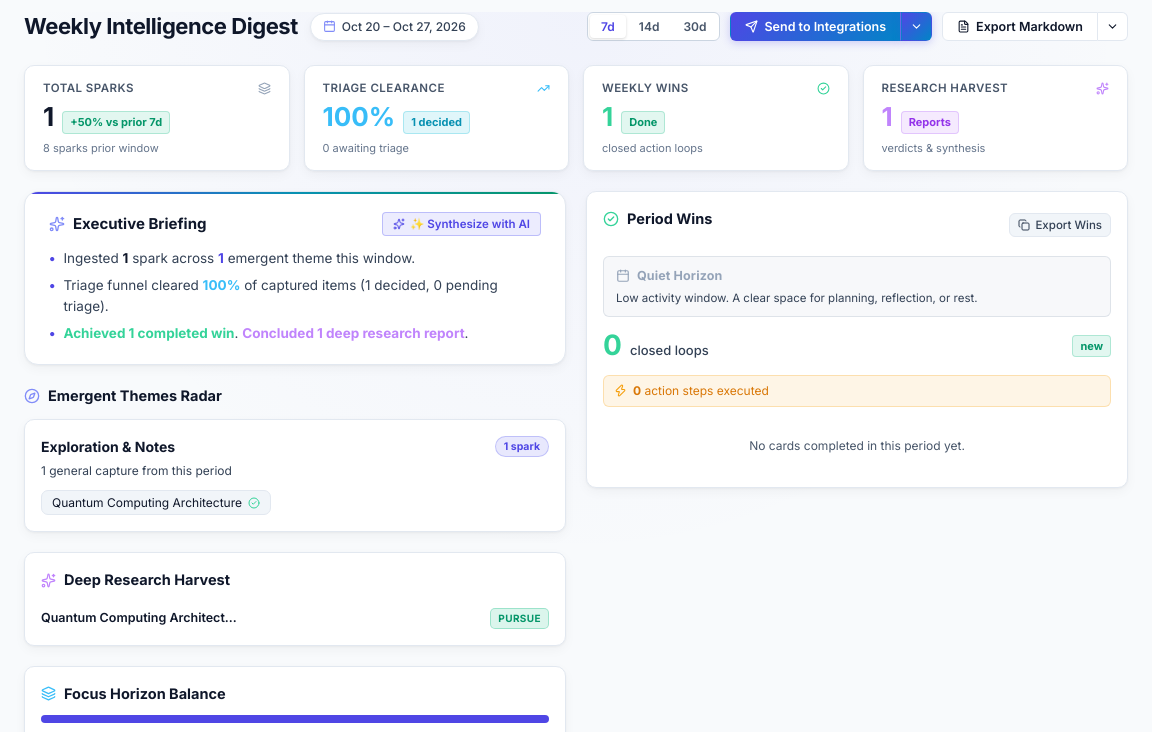
Test: DigestView › closes channel menu on Escape key
The width and height of the screenshot is (1152, 732).
Click the button named "Select integration channel" at [917, 26], box [901,12,932,41]
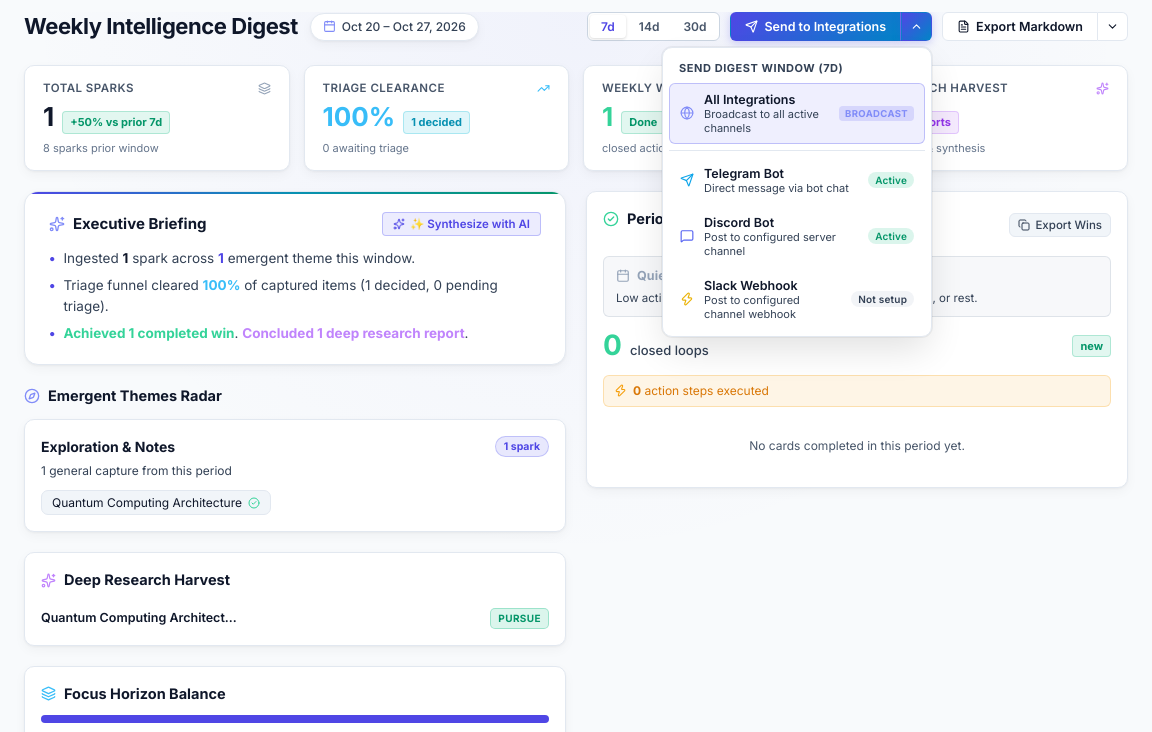
expect the menu is shown: met, box [662,47,932,336]
Press Escape
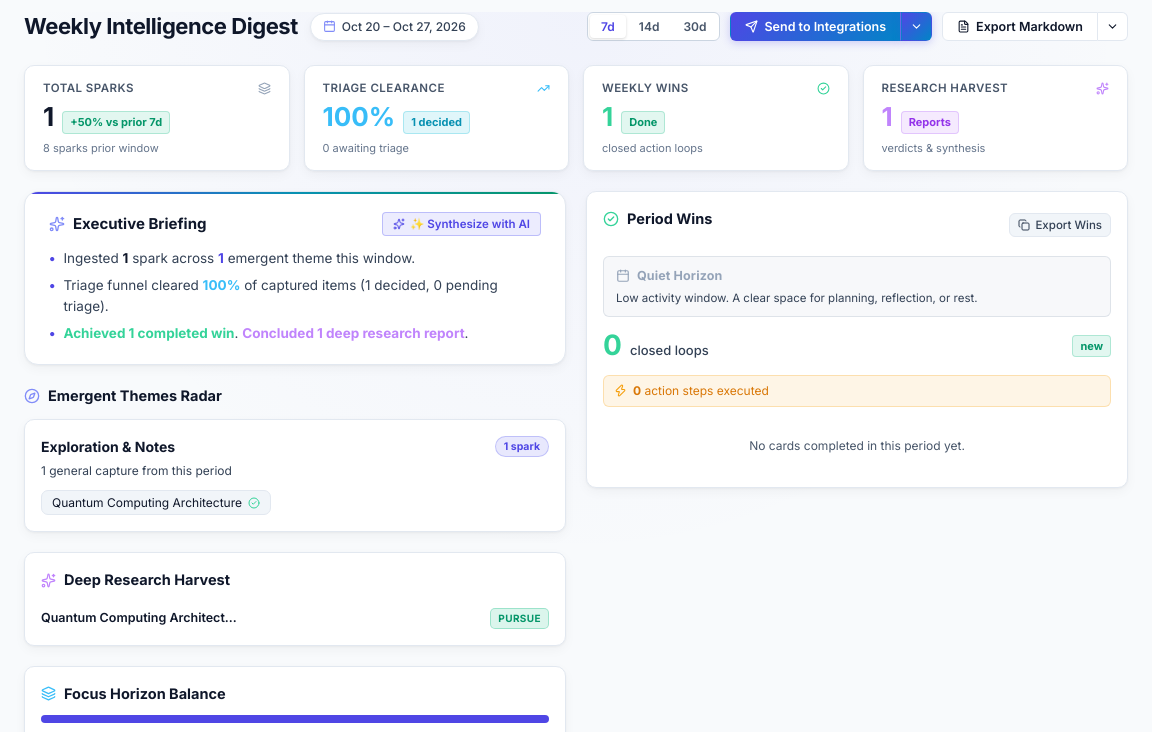
expect the menu is gone: met
